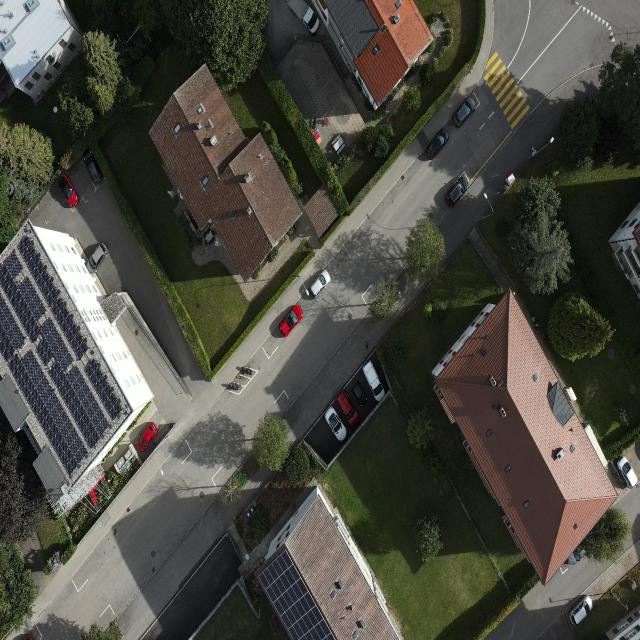panneaux_solaires: (6, 351, 86, 475), (18, 236, 91, 361), (257, 550, 337, 639), (84, 359, 122, 421)
passage_pieton: (483, 50, 529, 130)
